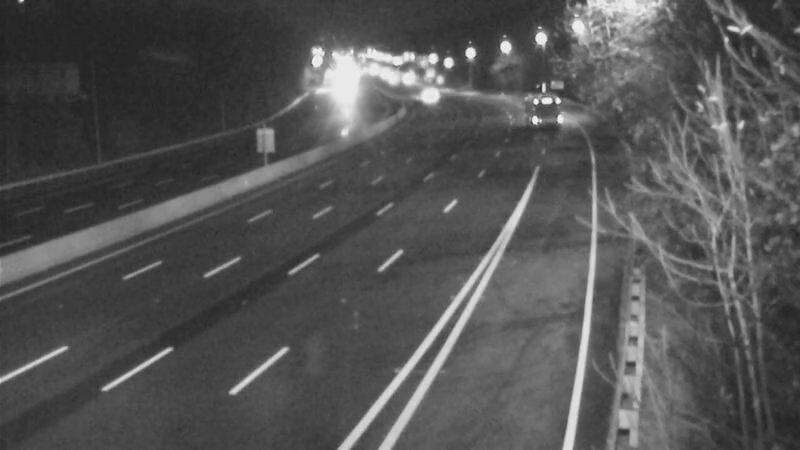vehicle: (364, 54, 414, 104), (386, 55, 436, 105), (400, 69, 450, 119), (509, 83, 559, 133), (320, 71, 370, 121)
